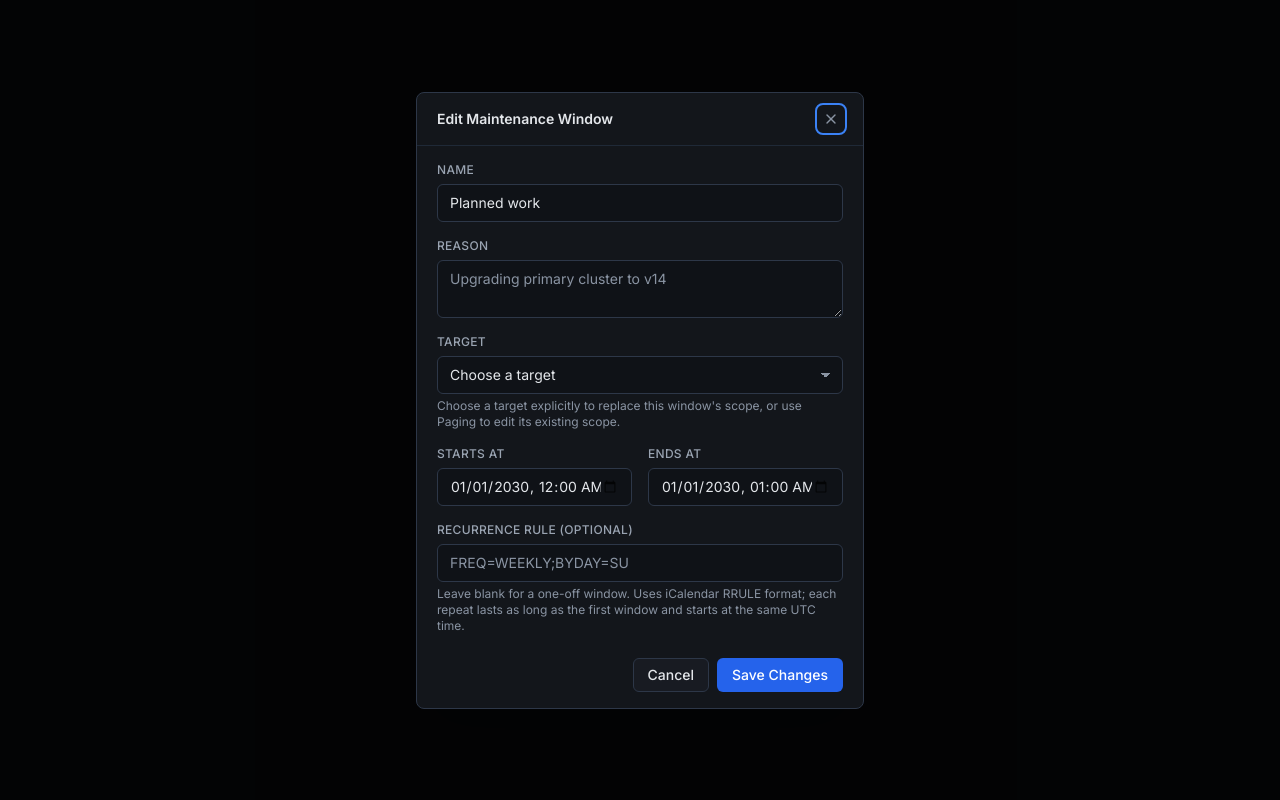
Test: MaintenanceWindowModal scope › requires an explicit choice for a scope the probe selector cannot represent
Expected: the dropdown labelled "Target" shows "Choose a target", [437, 356, 843, 394]
Click the button "Save Changes" at (780,674), box [717, 658, 843, 692]
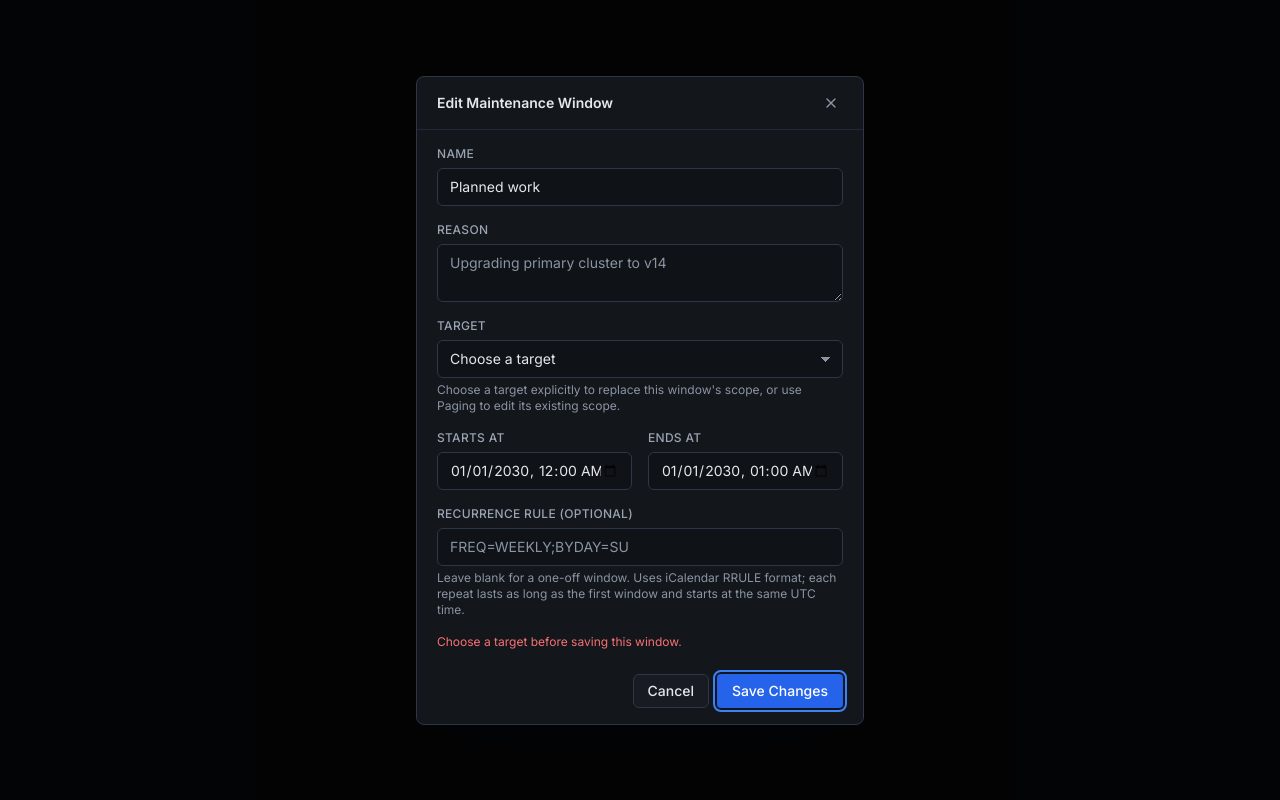
Now the text "Choose a target before saving this window." is shown, box [437, 634, 682, 648]
